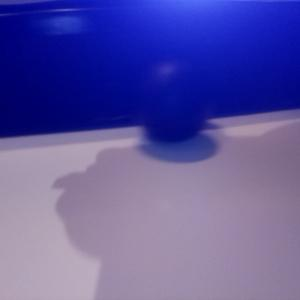dead_ball: (140, 62, 207, 141)
